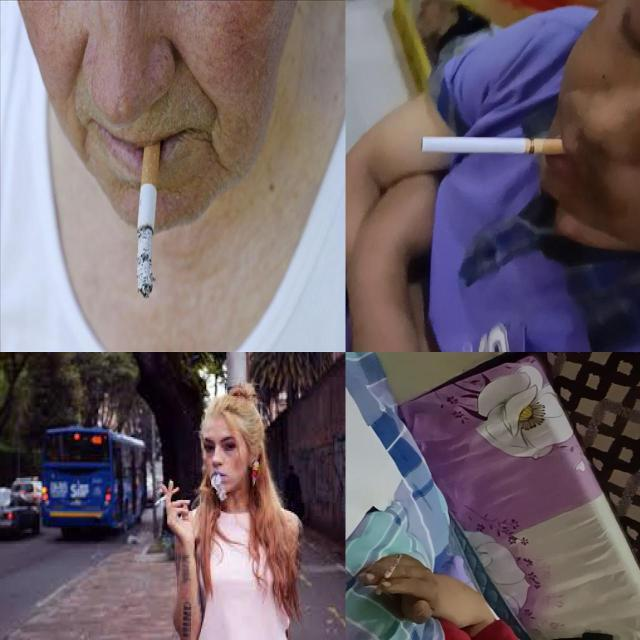smoking: (137, 132, 162, 300), (423, 137, 567, 156), (373, 552, 402, 596), (154, 488, 180, 507)
